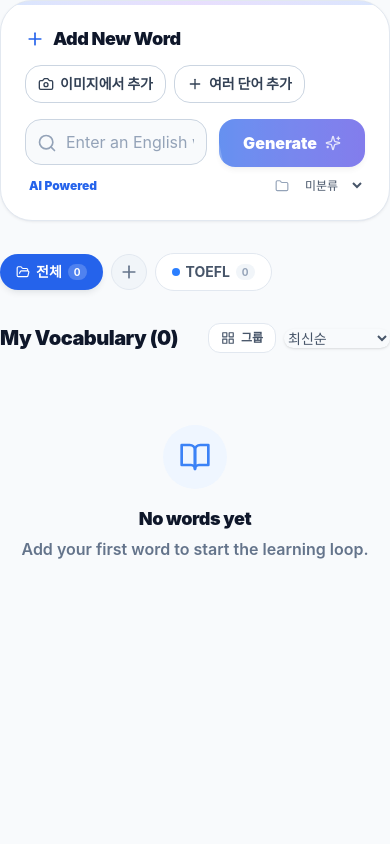
Test: VocabularyDashboard screenshot import › opens the screenshot import modal from the add-word panel
Click the button "이미지에서 추가".
click(96, 84)  # box [25,65,166,103]
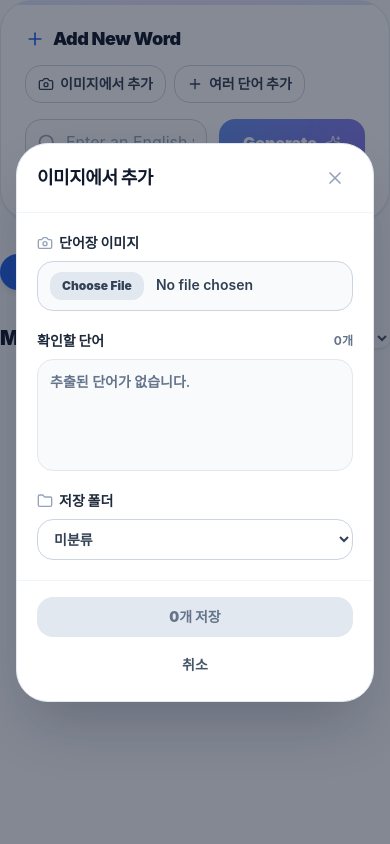
Expected: the dialog "이미지에서 추가" is shown
Expected: the file field labelled "단어장 이미지" is shown, [37,260,353,310]
